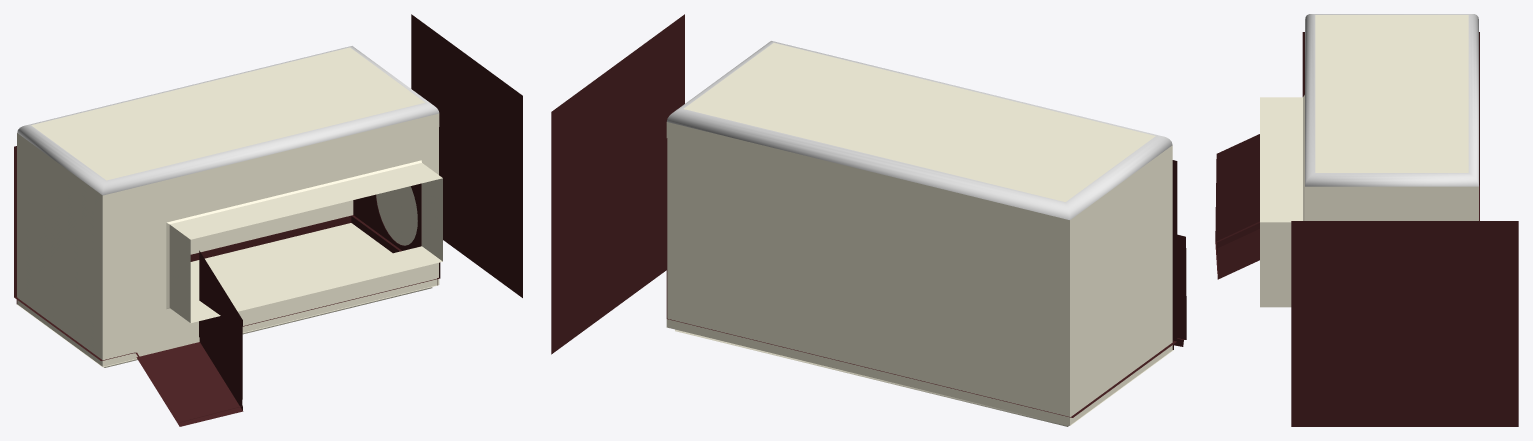
File: room3.glb
3 renders of one model, left to right at view 1: azimuth 30°, elevation 25°; view 2: azimuth 150°, elevation 25°; view 3: azimuth 270°, elevation 25°, orthographic. The views are drawn at different scales.
Visible parts, largest first — view 1: Cube, Room.000; view 2: Cube, Room.000; view 3: Room.000, Cube.
Boxes of the visible parts, x1,y1,x2,y2 form: Cube: (17,46,442,367); Room.000: (14,14,522,426); Cube: (666,41,1172,426); Room.000: (551,14,1186,425); Room.000: (1215,32,1518,426); Cube: (1260,14,1478,307).
Size of the model in its own units: 35.42 by 17.68 by 22.
